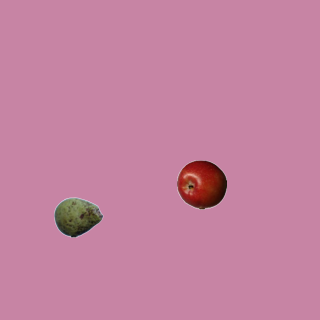Apple Braeburn: (176, 159, 226, 209)
Pear Stone: (53, 192, 103, 242)
